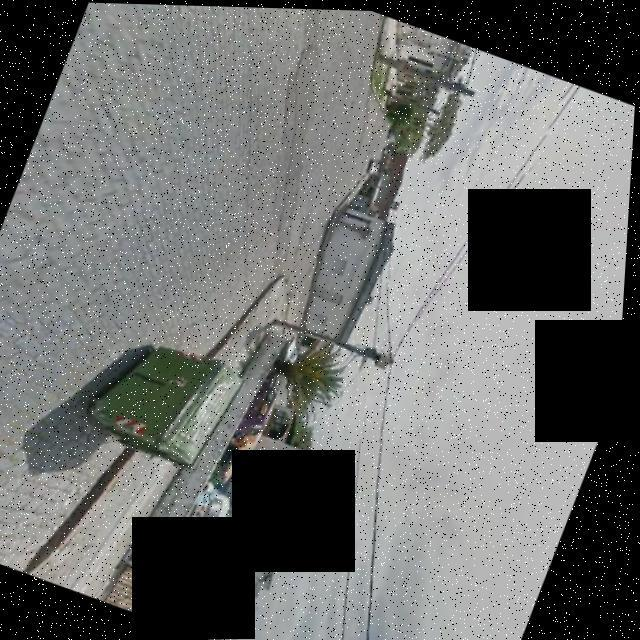bin: (64, 309, 267, 492)
